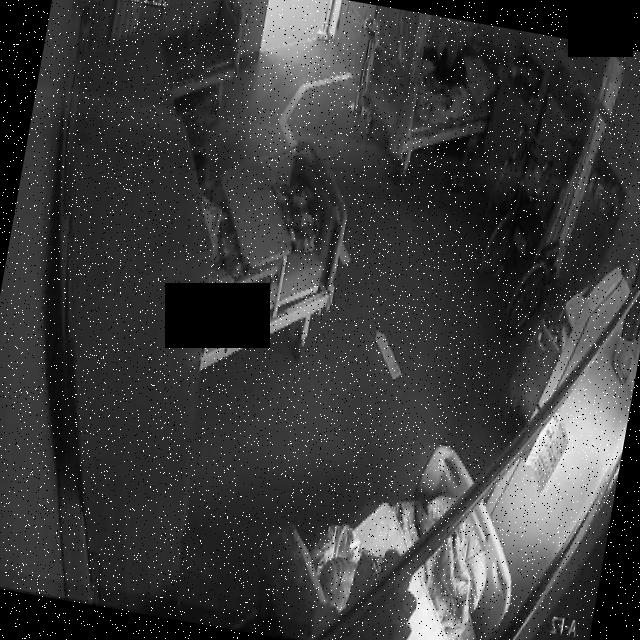bed: (267, 421, 533, 640), (186, 126, 359, 388), (356, 24, 504, 170), (154, 0, 261, 99)
